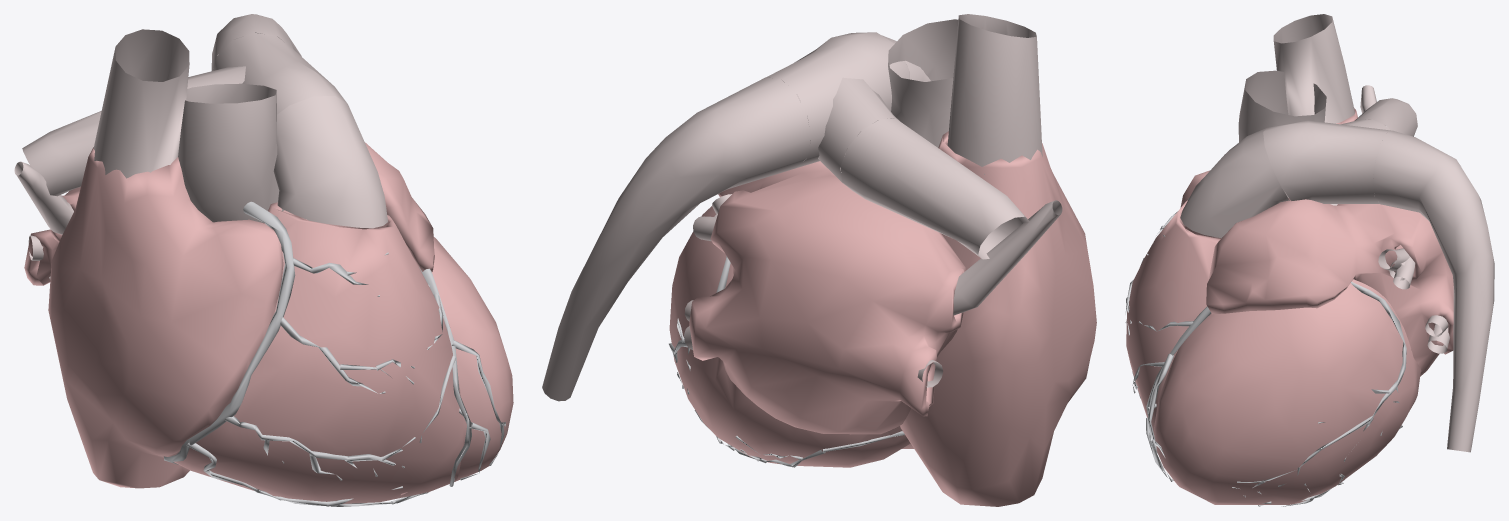
File: heart_lite.glb
3 renders of one model, left to right at view 1: azimuth 30°, elevation 25°; view 2: azimuth 150°, elevation 25°; view 3: azimuth 270°, elevation 25°, orthographic. The views are drawn at different scales.
Parts seen in each view (by area): view 1: right_atrium, right_ventricle, ascending_aorta, pulmonary_trunk, superior_vena_cava, left_ventricle, RCA, bifurcation_of_pulmonary_trunk, left_atrium, right_pulmonary_artery, LAD, right_superior_pulmonary_vein (+1 smaller); view 2: left_atrium, right_atrium, left_pulmonary_artery, right_pulmonary_artery, left_ventricle, superior_vena_cava, bifurcation_of_pulmonary_trunk, ascending_aorta, right_superior_pulmonary_vein, RCA, left_superior_pulmonary_vein; view 3: left_ventricle, left_atrium, left_pulmonary_artery, right_ventricle, bifurcation_of_pulmonary_trunk, pulmonary_trunk, superior_vena_cava, ascending_aorta, LAD, LCX, right_pulmonary_artery, left_superior_pulmonary_vein (+2 smaller).
Boxes of the visible parts, bbox=[...] form: right_atrium: bbox=[48, 147, 283, 488]; right_ventricle: bbox=[166, 202, 463, 503]; ascending_aorta: bbox=[178, 83, 284, 222]; pulmonary_trunk: bbox=[273, 96, 387, 228]; superior_vena_cava: bbox=[93, 29, 189, 178]; left_ventricle: bbox=[432, 237, 513, 481]; RCA: bbox=[163, 201, 428, 506]; bifurcation_of_pulmonary_trunk: bbox=[187, 32, 347, 114]; left_atrium: bbox=[24, 142, 434, 285]; right_pulmonary_artery: bbox=[22, 111, 101, 196]; LAD: bbox=[419, 267, 506, 486]; right_superior_pulmonary_vein: bbox=[14, 161, 73, 234]; left_atrium: bbox=[689, 161, 965, 434]; right_atrium: bbox=[900, 131, 1096, 506]; left_pulmonary_artery: bbox=[542, 77, 810, 401]; right_pulmonary_artery: bbox=[840, 118, 1029, 259]; left_ventricle: bbox=[669, 206, 910, 467]; superior_vena_cava: bbox=[947, 14, 1042, 174]; bifurcation_of_pulmonary_trunk: bbox=[766, 32, 909, 184]; ascending_aorta: bbox=[888, 19, 958, 147]; right_superior_pulmonary_vein: bbox=[953, 200, 1062, 315]; RCA: bbox=[694, 410, 904, 467]; left_superior_pulmonary_vein: bbox=[693, 194, 731, 241]; left_ventricle: bbox=[1154, 279, 1420, 504]; left_atrium: bbox=[1206, 198, 1453, 376]; left_pulmonary_artery: bbox=[1373, 130, 1494, 452]; right_ventricle: bbox=[1126, 200, 1221, 436]; bifurcation_of_pulmonary_trunk: bbox=[1263, 119, 1391, 203]; pulmonary_trunk: bbox=[1180, 128, 1289, 238]; superior_vena_cava: bbox=[1273, 14, 1354, 123]; ascending_aorta: bbox=[1238, 70, 1337, 205]; LAD: bbox=[1132, 306, 1211, 481]; LCX: bbox=[1232, 281, 1406, 488]; right_pulmonary_artery: bbox=[1354, 98, 1417, 136]; left_superior_pulmonary_vein: bbox=[1378, 248, 1415, 289].
Size of the model in its own units: 1.14 by 1.18 by 1.02.
